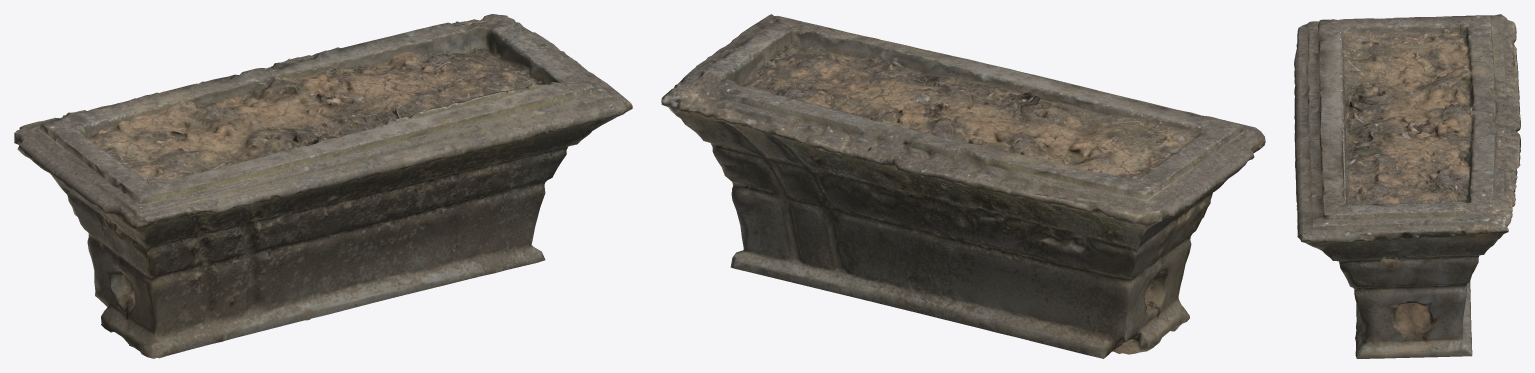
The model's file is PX_Discarded_Flower_Pot_01_LOD1.fbx.
3 views of the same model, side by side, from view 1: azimuth 30°, elevation 25°; view 2: azimuth 150°, elevation 25°; view 3: azimuth 270°, elevation 25° (orthographic). The views are drawn at different scales.
Visible parts, largest first — view 1: PX_Discarded_Flower_Pot_01_LOD1; view 2: PX_Discarded_Flower_Pot_01_LOD1; view 3: PX_Discarded_Flower_Pot_01_LOD1.
Boxes of the visible parts, <box> form: PX_Discarded_Flower_Pot_01_LOD1: <box>14,14,632,358</box>; PX_Discarded_Flower_Pot_01_LOD1: <box>661,14,1265,358</box>; PX_Discarded_Flower_Pot_01_LOD1: <box>1294,14,1520,358</box>.
Size of the model in its own units: 150 by 53.03 by 65.85.
